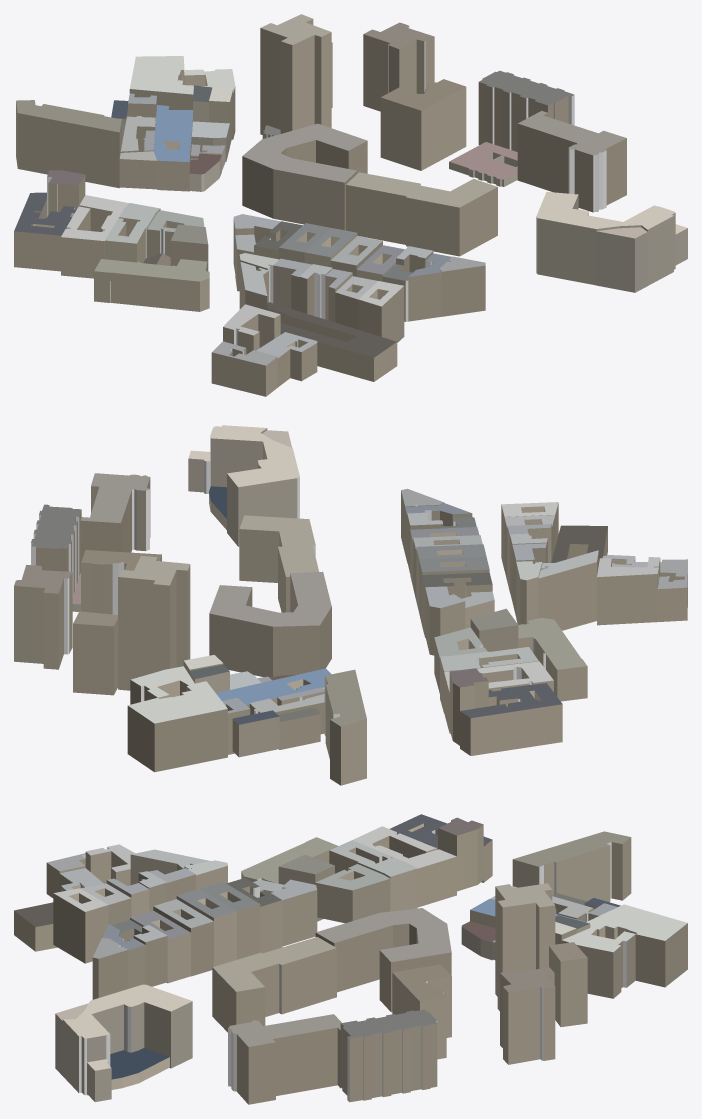
3 views of the same model, one above another, from view 1: azimuth 30°, elevation 25°; view 2: azimuth 150°, elevation 25°; view 3: azimuth 270°, elevation 25° (orthographic). The views are drawn at different scales.
Visible parts, largest first — view 1: tuile; view 2: tuile; view 3: tuile.
Boxes of the visible parts, box(x1,y1,x2,y2) form: tuile: box(14, 14, 687, 396); tuile: box(14, 425, 687, 785); tuile: box(14, 814, 687, 1104).
Bounding box in the file's own units: 275 × 64.16 × 301.
